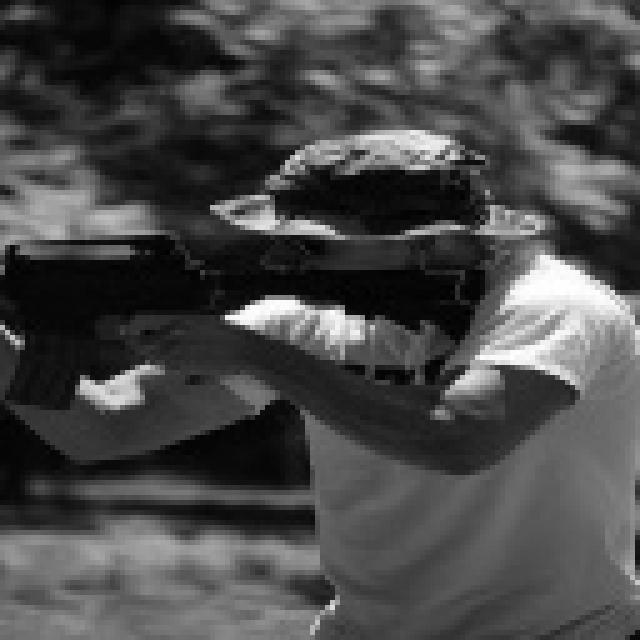Rifle: (0, 189, 513, 421)
